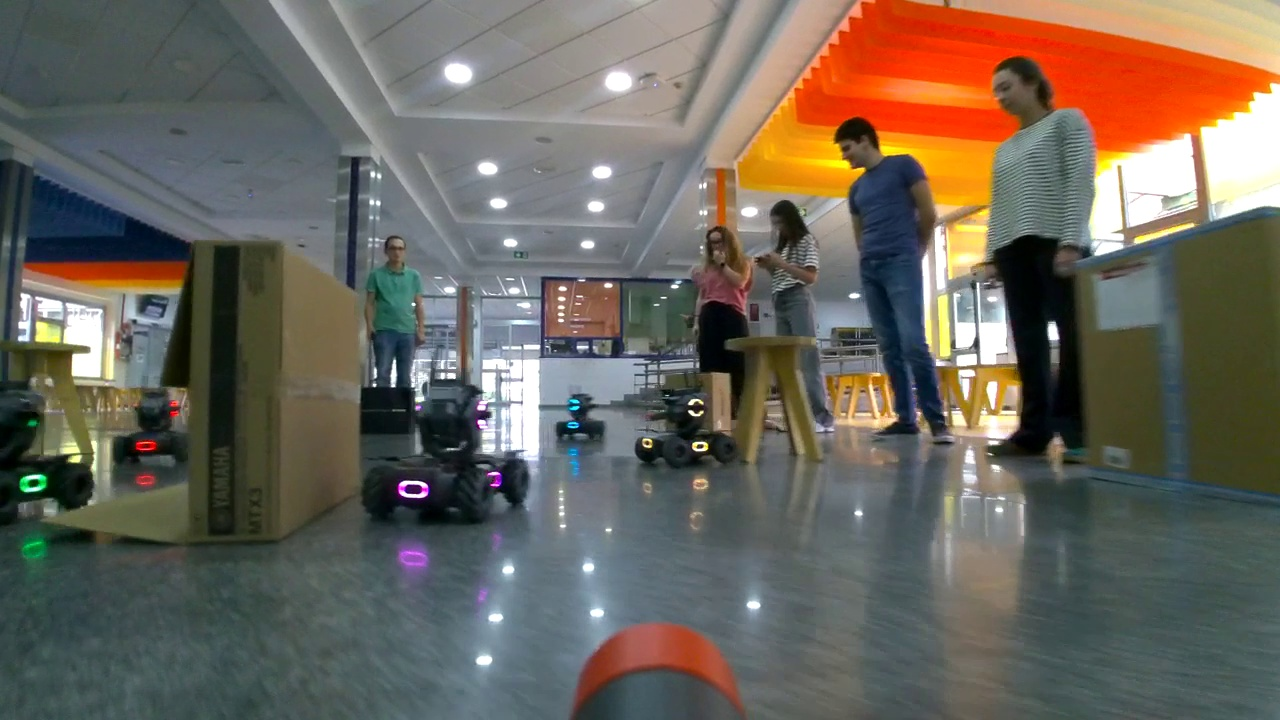robot: (360, 378, 530, 516), (636, 386, 736, 463)
